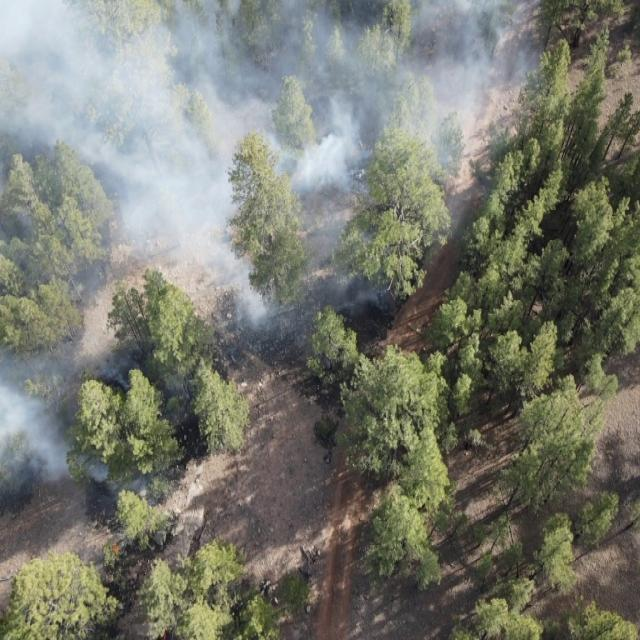fire: (108, 538, 128, 564)
smoke: (0, 0, 543, 299), (0, 333, 152, 509), (225, 300, 380, 372)
